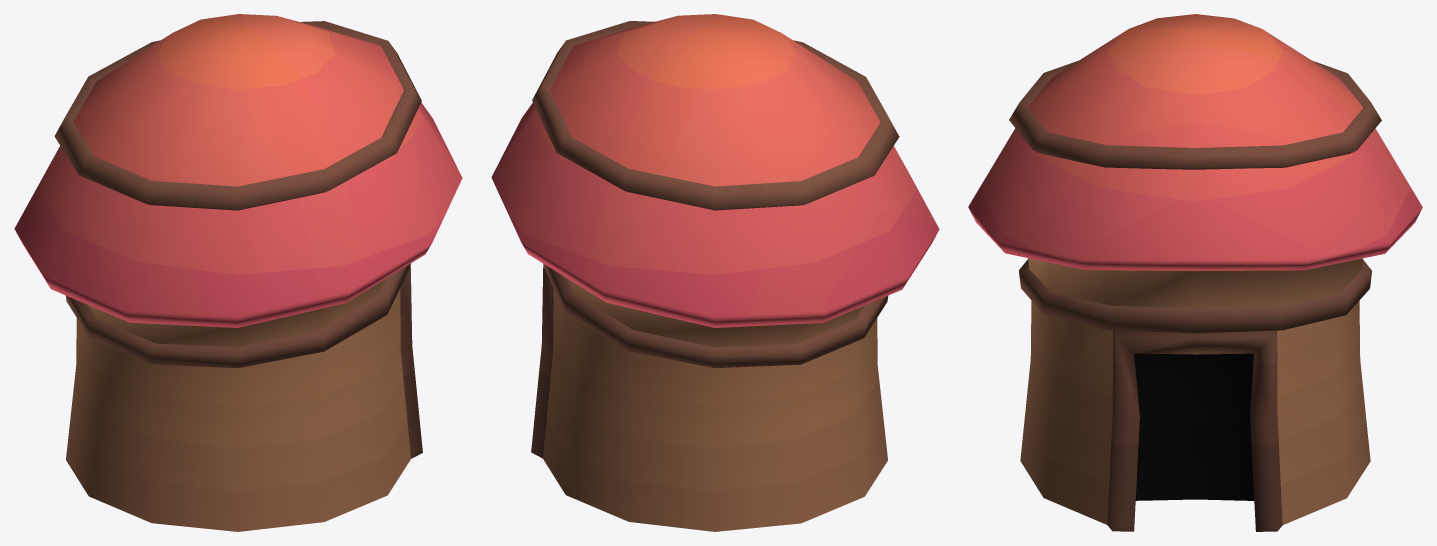
The model's file is model_hut_01.fbx.
3 views of the same model, side by side, from view 1: azimuth 30°, elevation 25°; view 2: azimuth 150°, elevation 25°; view 3: azimuth 270°, elevation 25° (orthographic).
Visible parts, largest first — view 1: hut_01_geo; view 2: hut_01_geo; view 3: hut_01_geo.
Part boxes in pixels (x1,y1,x2,y2): hut_01_geo: [14, 14, 462, 531]; hut_01_geo: [491, 14, 939, 531]; hut_01_geo: [968, 14, 1422, 531].
Size of the model in its own units: 23.99 by 24.97 by 23.99.
